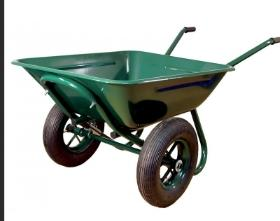BROUETTE: (13, 23, 280, 219)
